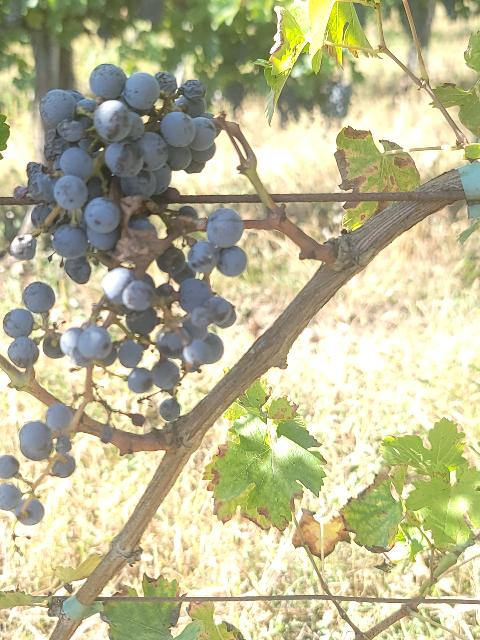grapes: (0, 209, 248, 526), (26, 64, 216, 281), (42, 209, 248, 392)
